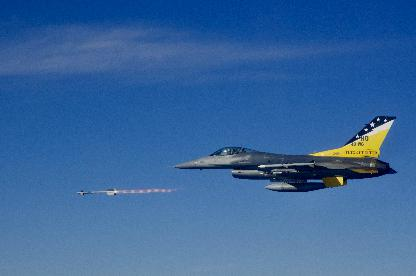F14: (166, 115, 398, 191)
